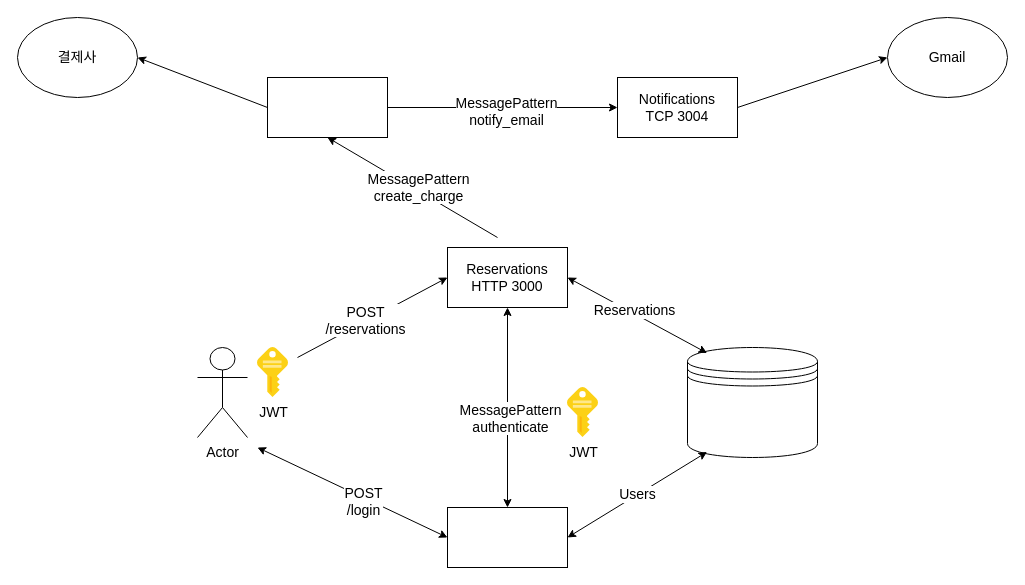
Some shapes in this 1025 by 585 pixel diagram are drawn without their labels. Each missing label, with the centre of its shape:
Auth HTTP 3001 TCP 3002: (x=507, y=537)
MongoDB: (x=752, y=402)
Payments TCP 3003: (x=327, y=107)
